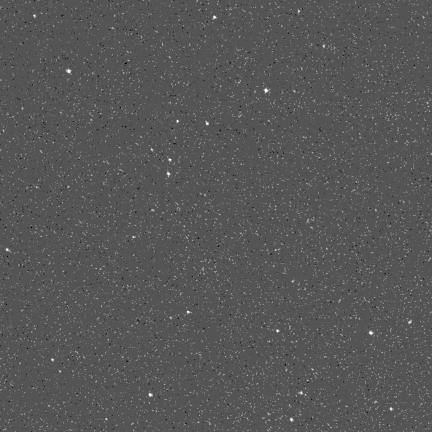blob: (67, 69, 71, 74), (264, 88, 268, 93), (149, 393, 153, 397), (369, 331, 373, 335), (213, 16, 217, 20), (408, 320, 412, 324), (168, 158, 172, 162), (290, 418, 294, 422), (167, 172, 170, 177), (187, 311, 191, 314), (6, 248, 10, 251), (51, 359, 55, 362), (206, 121, 209, 125), (276, 330, 280, 333), (177, 120, 180, 124), (33, 14, 36, 18), (323, 44, 325, 48)
